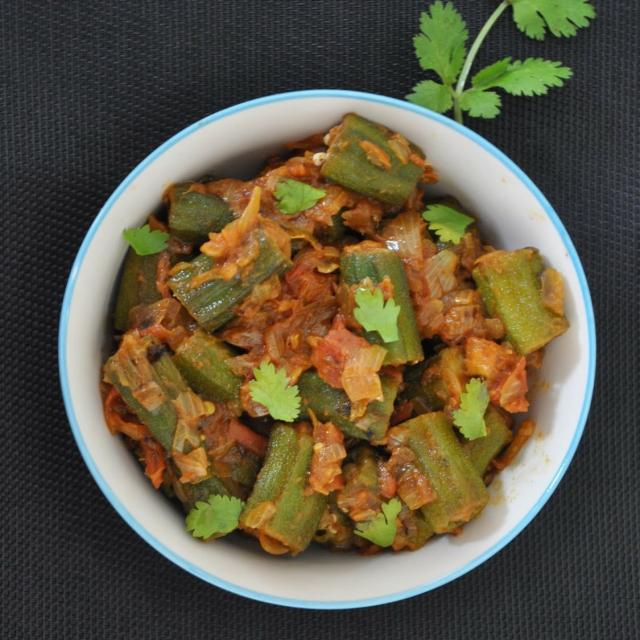BhindiMasala: (98, 113, 566, 558)
